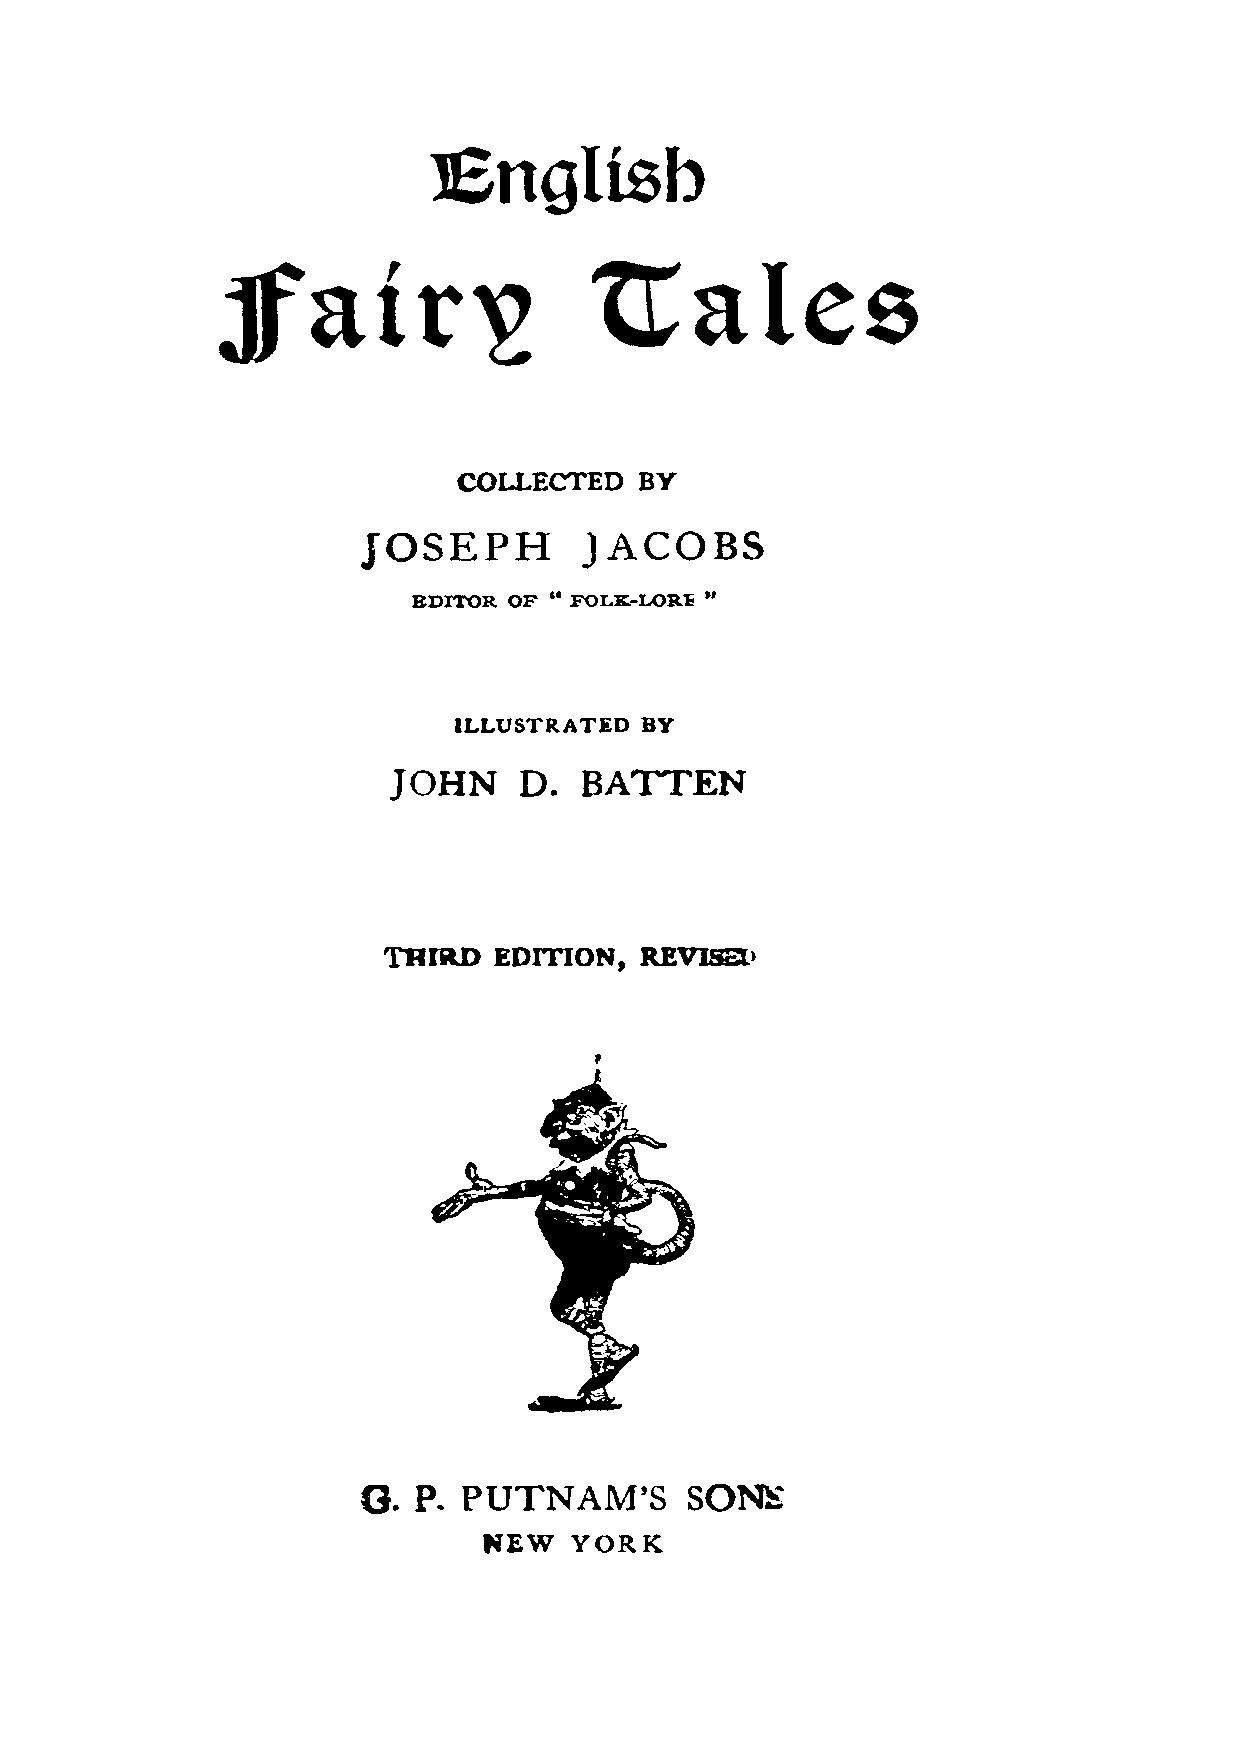author: (358, 468, 765, 574)
title: (211, 141, 919, 368)
